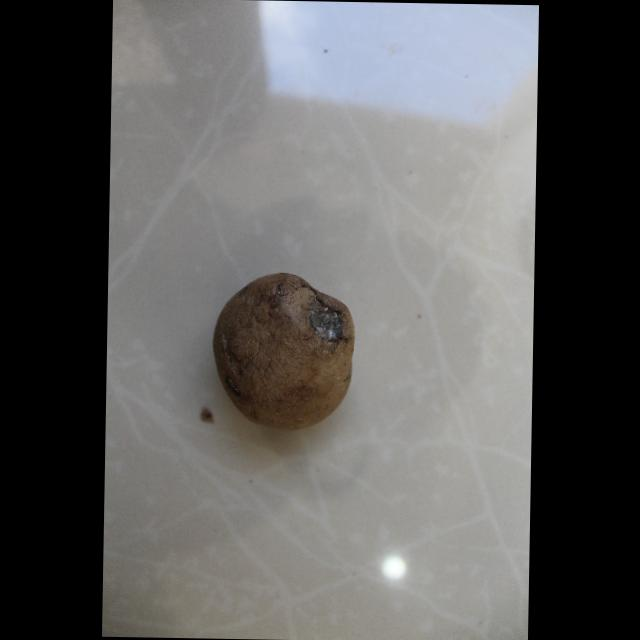Diseased-fungal potato: (209, 270, 356, 434)
